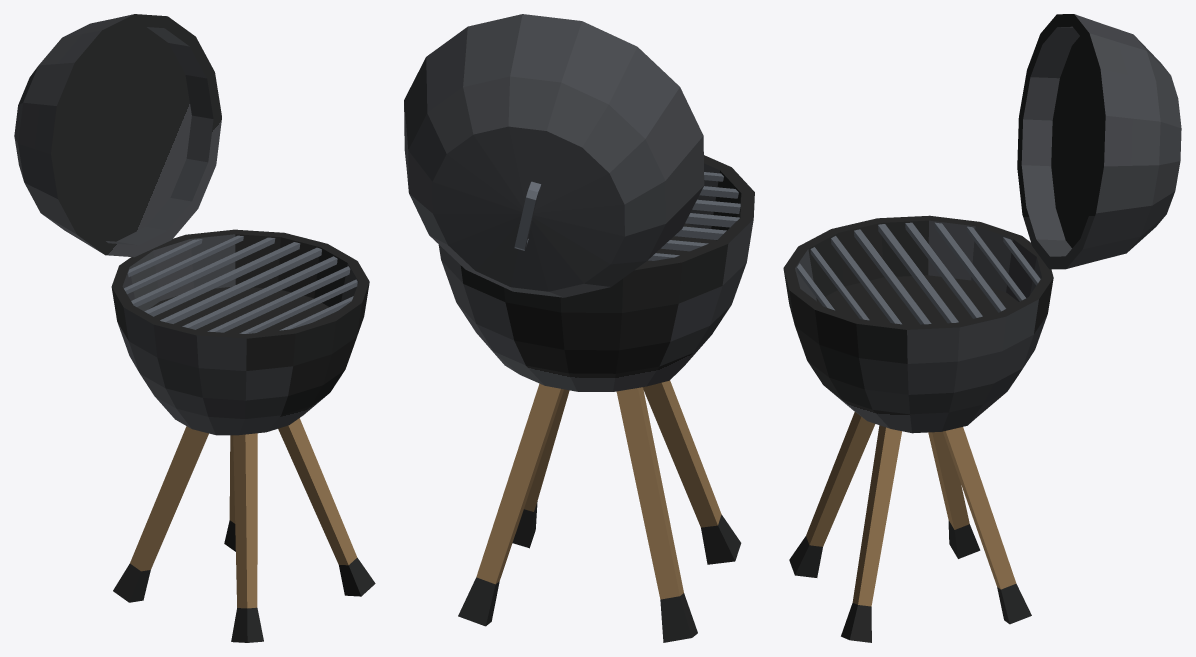
File: Accesories_BBQ..glb
3 renders of one model, left to right at view 1: azimuth 30°, elevation 25°; view 2: azimuth 150°, elevation 25°; view 3: azimuth 270°, elevation 25°, orthographic. The views are drawn at different scales.
Parts seen in each view (by area): view 1: Accesories_BBQ.; view 2: Accesories_BBQ.; view 3: Accesories_BBQ..
Part boxes in pixels (x1,y1,x2,y2): Accesories_BBQ.: (14, 14, 375, 642); Accesories_BBQ.: (404, 14, 754, 642); Accesories_BBQ.: (783, 14, 1181, 642).
Size of the model in its own units: 0.6953 by 1.4 by 0.9105.
1 material, 1 textured.
